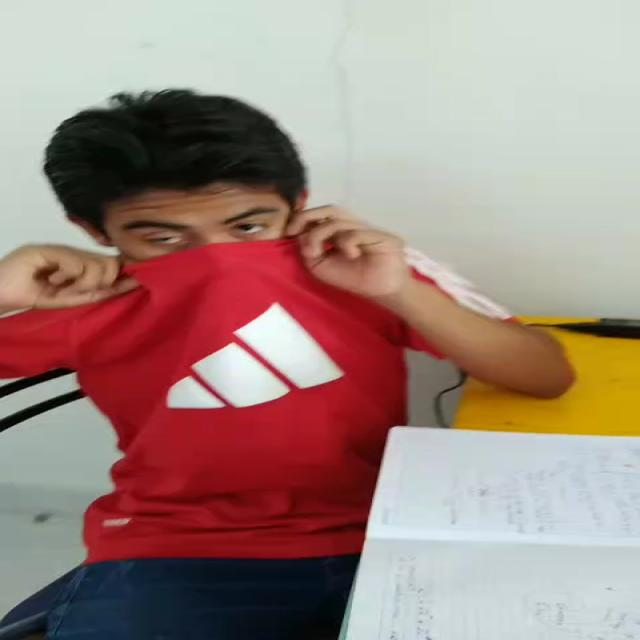8_ropa_rostro: (109, 232, 337, 336)
